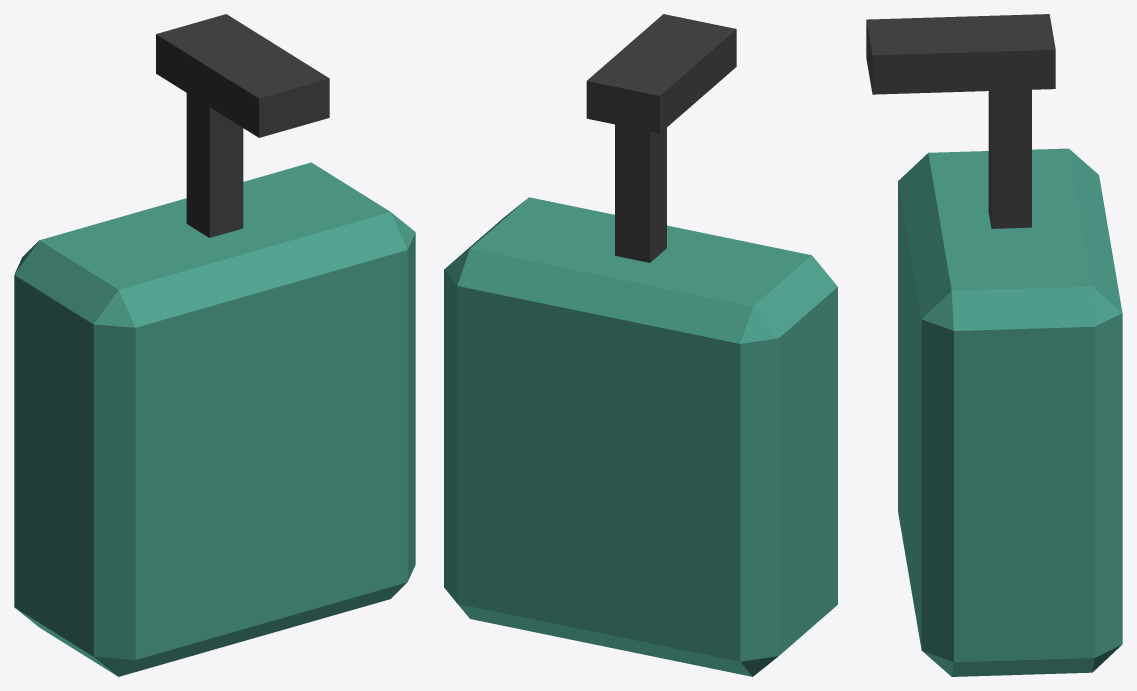
Rendered from Dispenser.fbx.
3 views of the same model, side by side, from view 1: azimuth 30°, elevation 25°; view 2: azimuth 150°, elevation 25°; view 3: azimuth 270°, elevation 25° (orthographic). The views are drawn at different scales.
Parts seen in each view (by area): view 1: Dispenser; view 2: Dispenser; view 3: Dispenser.
Boxes of the visible parts, left/top/right/bottom form: Dispenser: left=14, top=14, right=415, bottom=676; Dispenser: left=444, top=14, right=837, bottom=676; Dispenser: left=866, top=14, right=1122, bottom=676.
Size of the model in its own units: 15.78 by 10.17 by 25.09.
